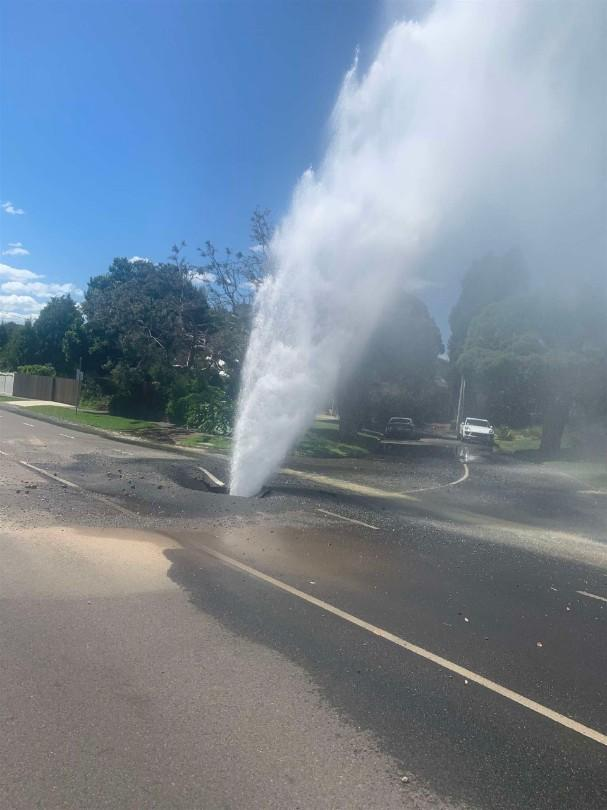water_leak: (223, 0, 584, 498)
